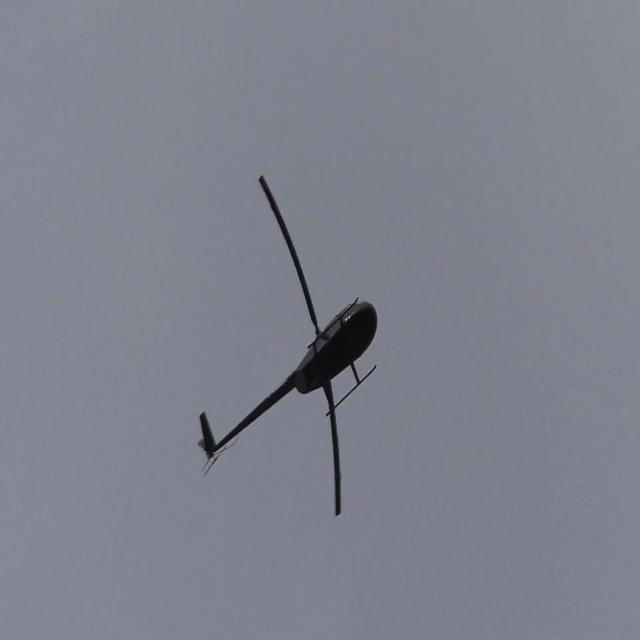CIV_HELO: (196, 293, 378, 462)
